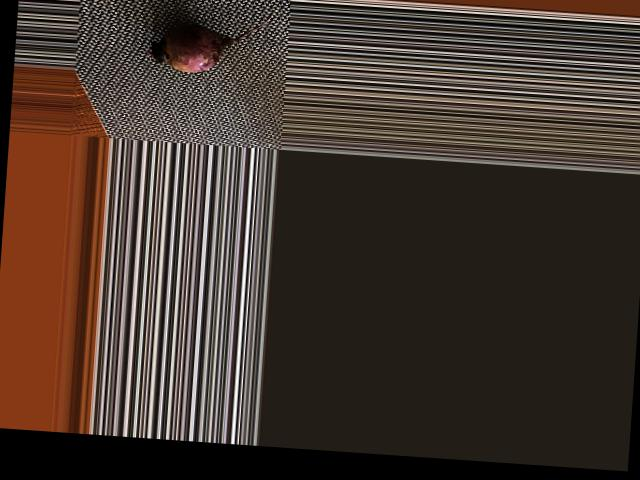beet: (146, 1, 275, 76)
